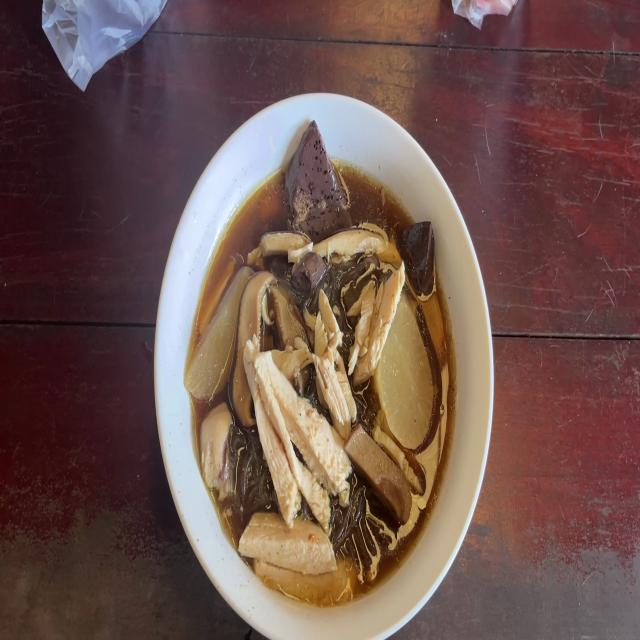boiled_chicken_blood_jelly: (286, 131, 350, 228), (400, 208, 440, 290), (297, 252, 325, 293)
chicken_shredded: (242, 345, 343, 510), (349, 268, 403, 377), (316, 295, 349, 423), (248, 528, 338, 568), (201, 404, 233, 492), (319, 228, 396, 257), (258, 228, 312, 261)
daikon_radish: (185, 271, 245, 399), (386, 321, 434, 445)
noodle: (193, 166, 457, 602)
